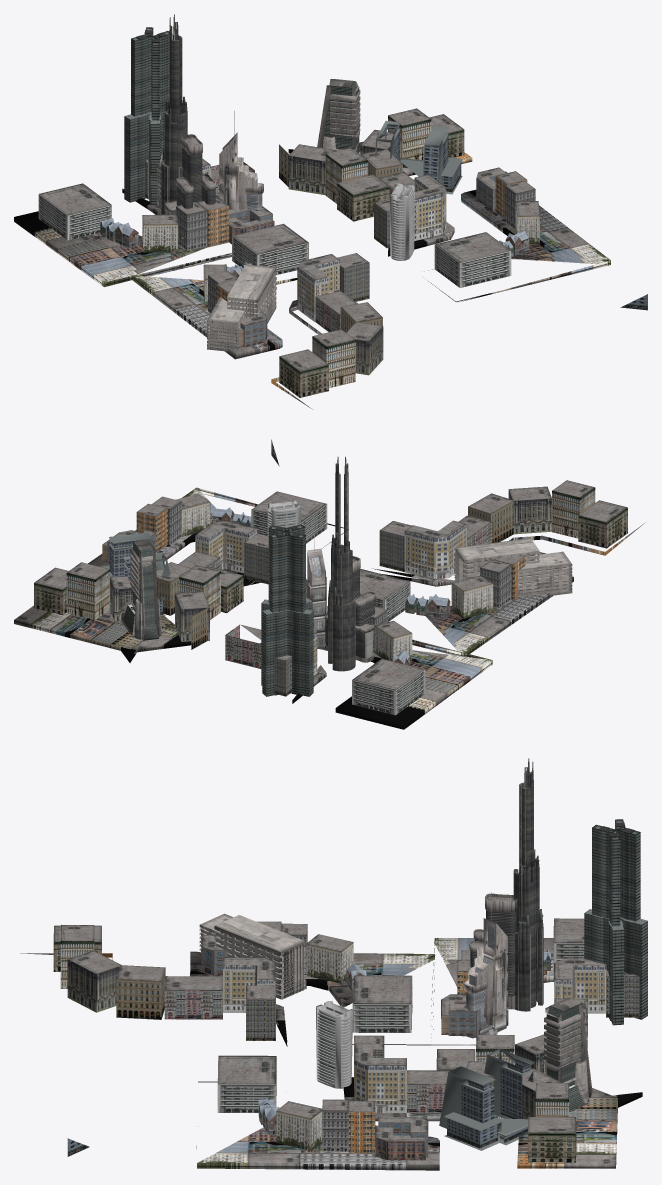
The model's file is The City.obj.
The picture shows the model from 3 angles, top to bottom: view 1: azimuth 30°, elevation 25°; view 2: azimuth 150°, elevation 25°; view 3: azimuth 270°, elevation 25°; orthographic projection. The views are drawn at different scales.
Visible parts, largest first — view 1: mesh01 Mesh Mesh, bldgs2 Mesh Mesh; view 2: mesh01 Mesh Mesh, bldgs2 Mesh Mesh; view 3: mesh01 Mesh Mesh, bldgs2 Mesh Mesh.
Boxes of the visible parts, x1,y1,x2,y2 form: mesh01 Mesh Mesh: (14, 108, 610, 409); bldgs2 Mesh Mesh: (124, 14, 647, 351); mesh01 Mesh Mesh: (14, 480, 644, 729); bldgs2 Mesh Mesh: (100, 439, 572, 696); mesh01 Mesh Mesh: (20, 918, 642, 1170); bldgs2 Mesh Mesh: (67, 758, 647, 1156).
Size of the model in its own units: 1688 by 848 by 1990.
2 materials, 2 textured.
